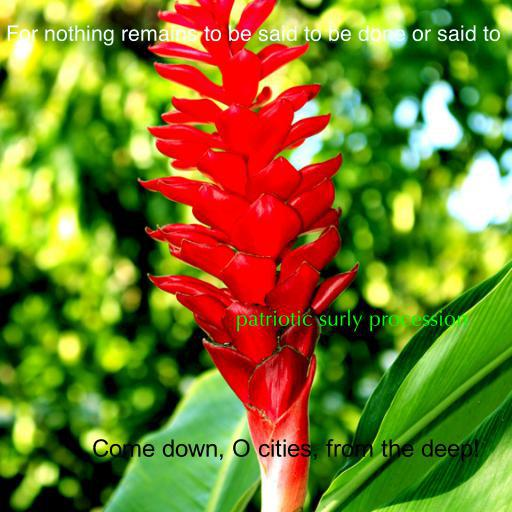Arial: (92, 439, 480, 462)
Optima: (236, 309, 468, 332)
SignPainter: (5, 25, 501, 46)
